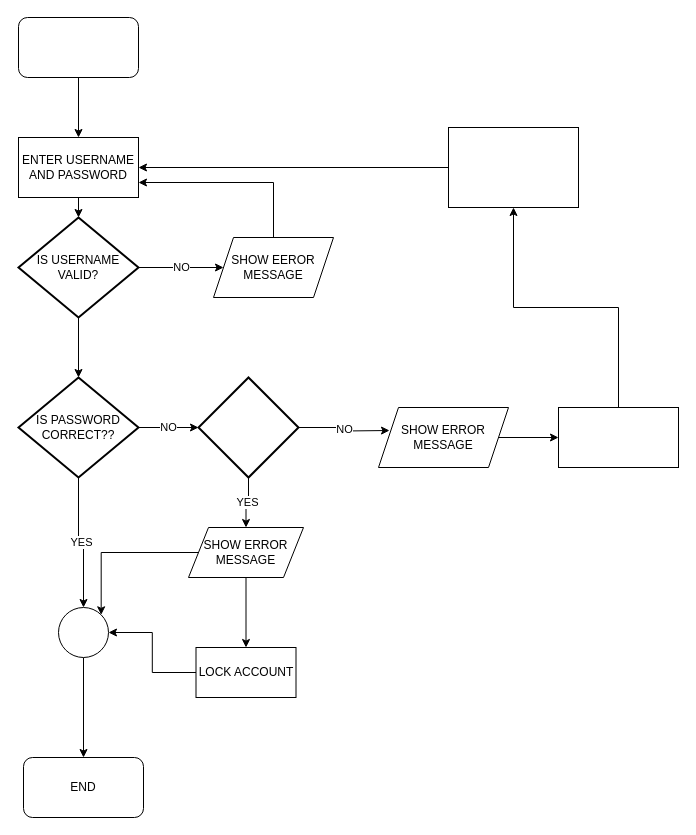
Image size: 696x835. Some labels were removed from this diagram. Here are the shapes that lost their labels. From the top down, the box of each, then its label:
(18, 16, 138, 78): START
(448, 126, 578, 208): INCREEMENT ATTEMPTS
(197, 376, 299, 478): HAVE 3 ATTEMPTS BEEN EXCEEDED?
(558, 406, 678, 468): RESET ERROR MESSAGE
